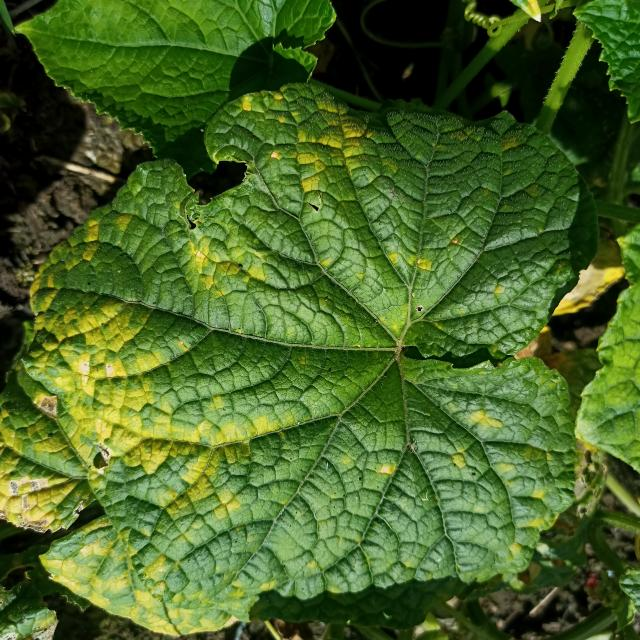disease_cucumber: (0, 279, 273, 627), (172, 95, 372, 296)
